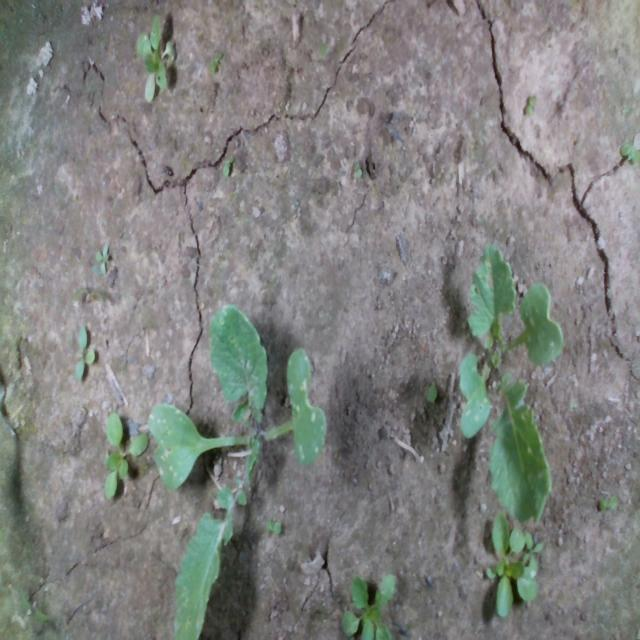weed: (74, 326, 95, 382), (94, 239, 110, 277), (619, 140, 639, 164), (220, 150, 234, 178), (264, 516, 282, 534), (523, 94, 535, 116)
